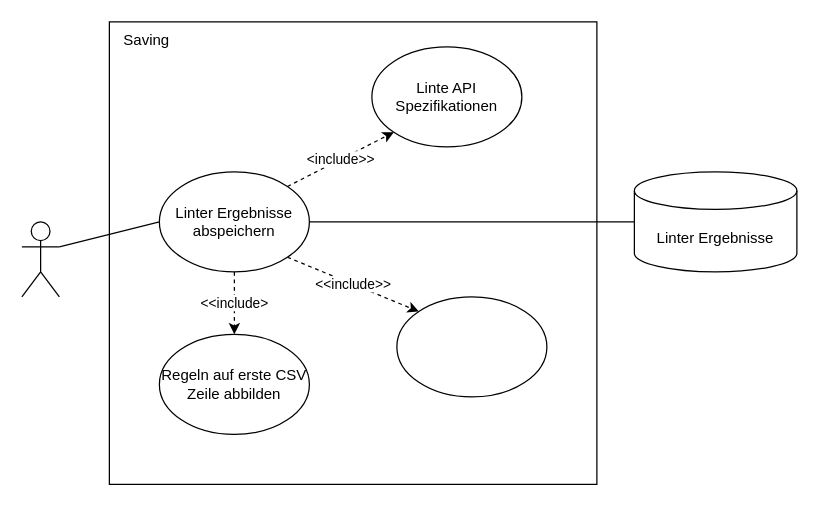
Some shapes in this 819 by 506 pixel diagram are drawn without their labels. The centre of each missing label's shape, as x and y in pixels:
"Ergebnisse auf CSV Spalten abbilden" belongs at (471,346).
"User" belongs at (40,259).
